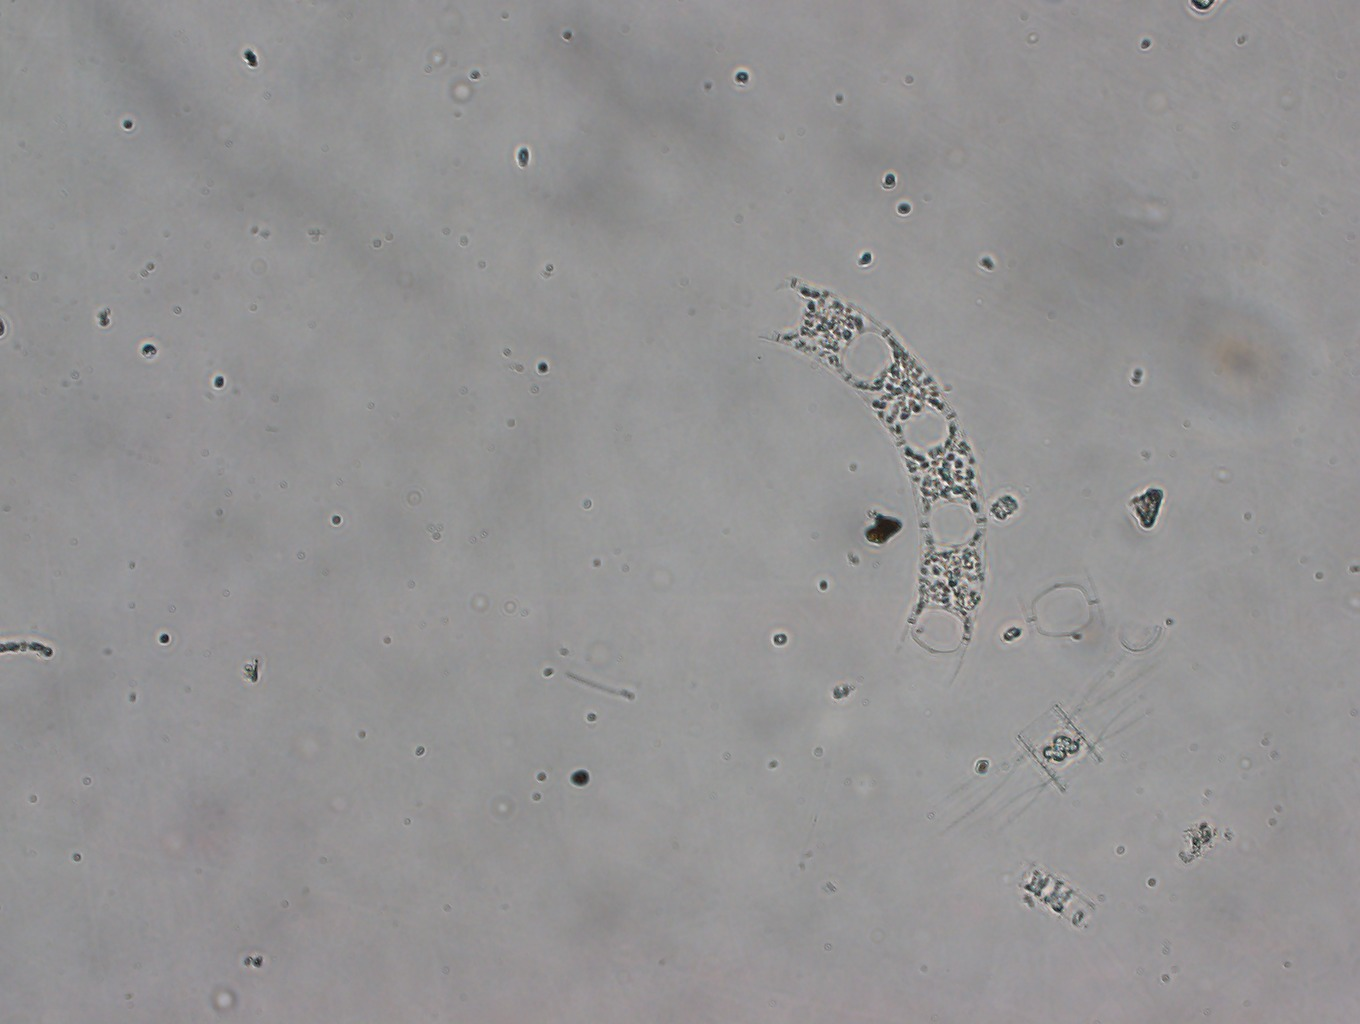chaetoceros: (929, 644, 1166, 852)
eucampia: (734, 261, 996, 691)
